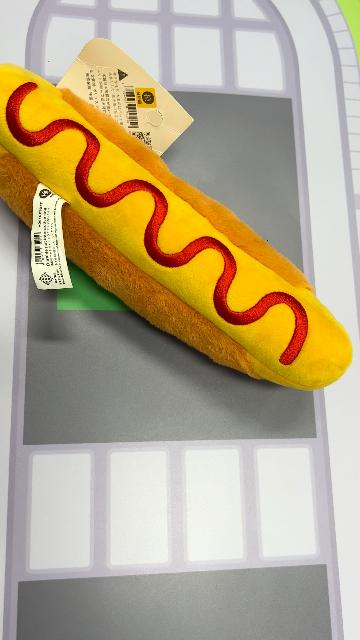hotdog: (1, 62, 353, 392)
